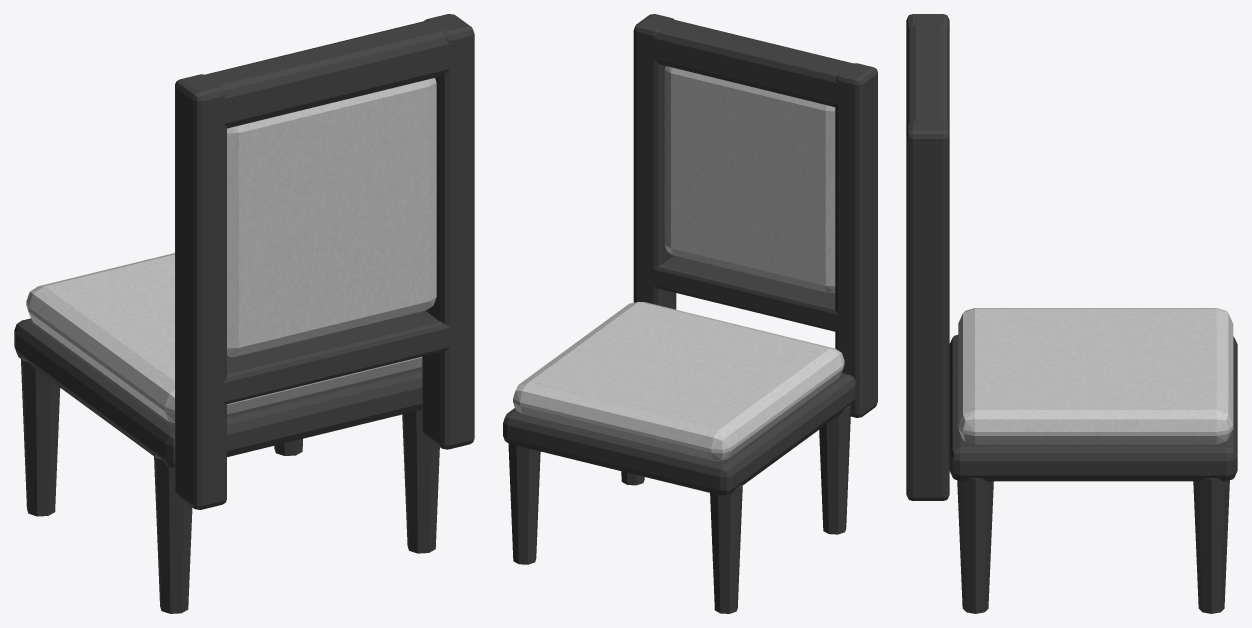
The model's file is chair.fbx.
3 views of the same model, side by side, from view 1: azimuth 30°, elevation 25°; view 2: azimuth 150°, elevation 25°; view 3: azimuth 270°, elevation 25° (orthographic). The views are drawn at different scales.
Parts seen in each view (by area): view 1: chair; view 2: chair; view 3: chair.
Part boxes in pixels (bbox=[...]): chair: bbox=[14, 14, 474, 613]; chair: bbox=[503, 14, 877, 613]; chair: bbox=[906, 14, 1237, 613].
Bounding box in the file's own units: 2.02 × 3.7 × 2.3.
1 material, 1 textured.
